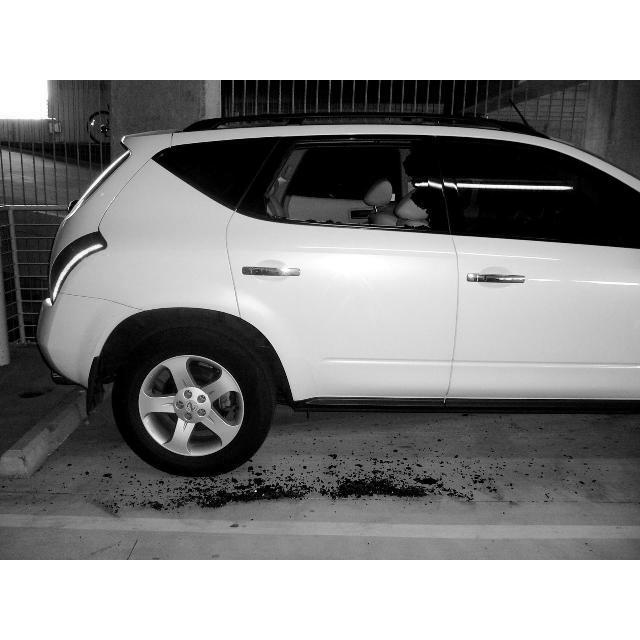doorouter-dent: (253, 147, 448, 348)
